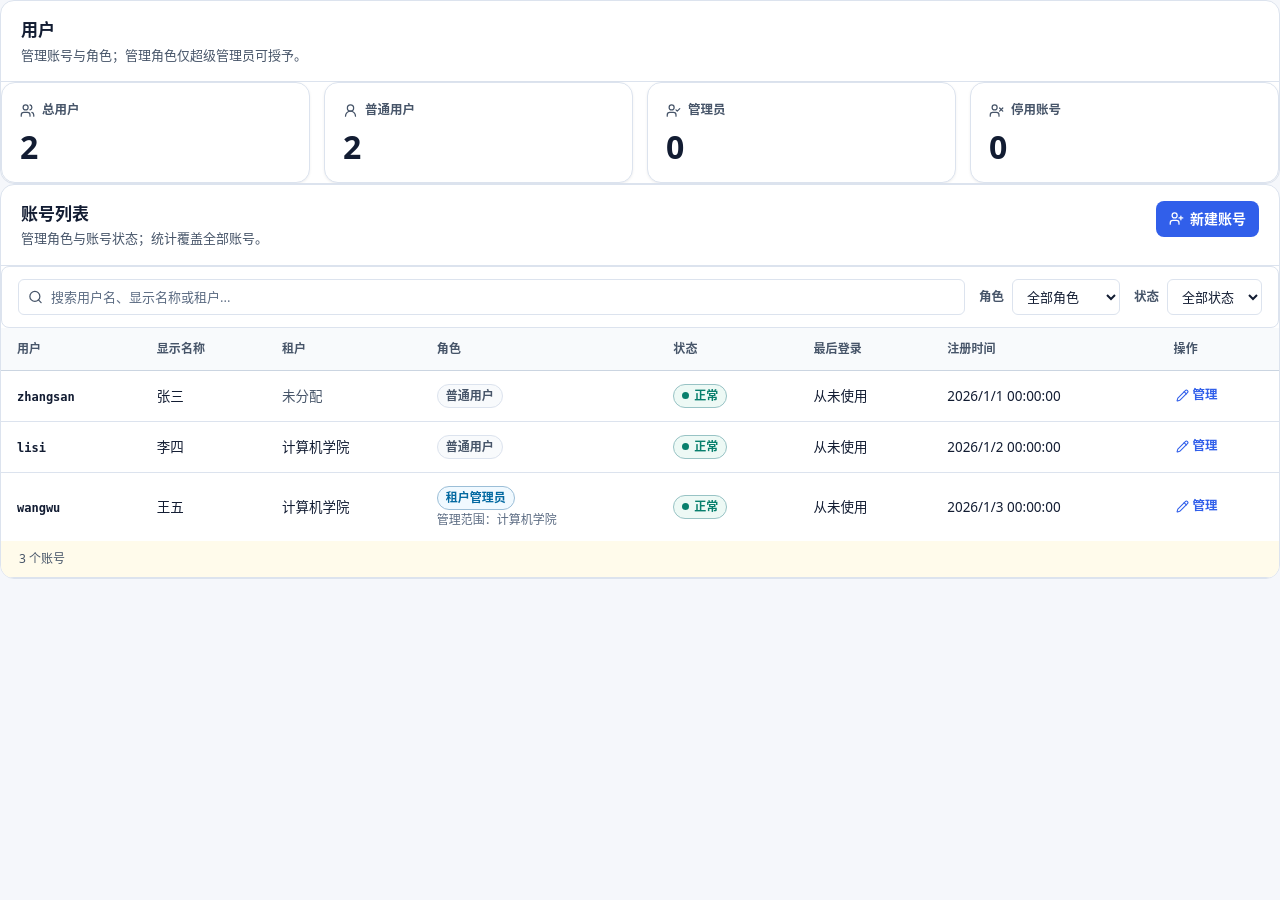
Test case: UsersPage password reset › explains a disabled account instead of silently failing
The width and height of the screenshot is (1280, 900).
Click the button "管理" in the row of "zhangsan".
click(1196, 396)  # box [1174,384,1220,407]
(page scrolled)
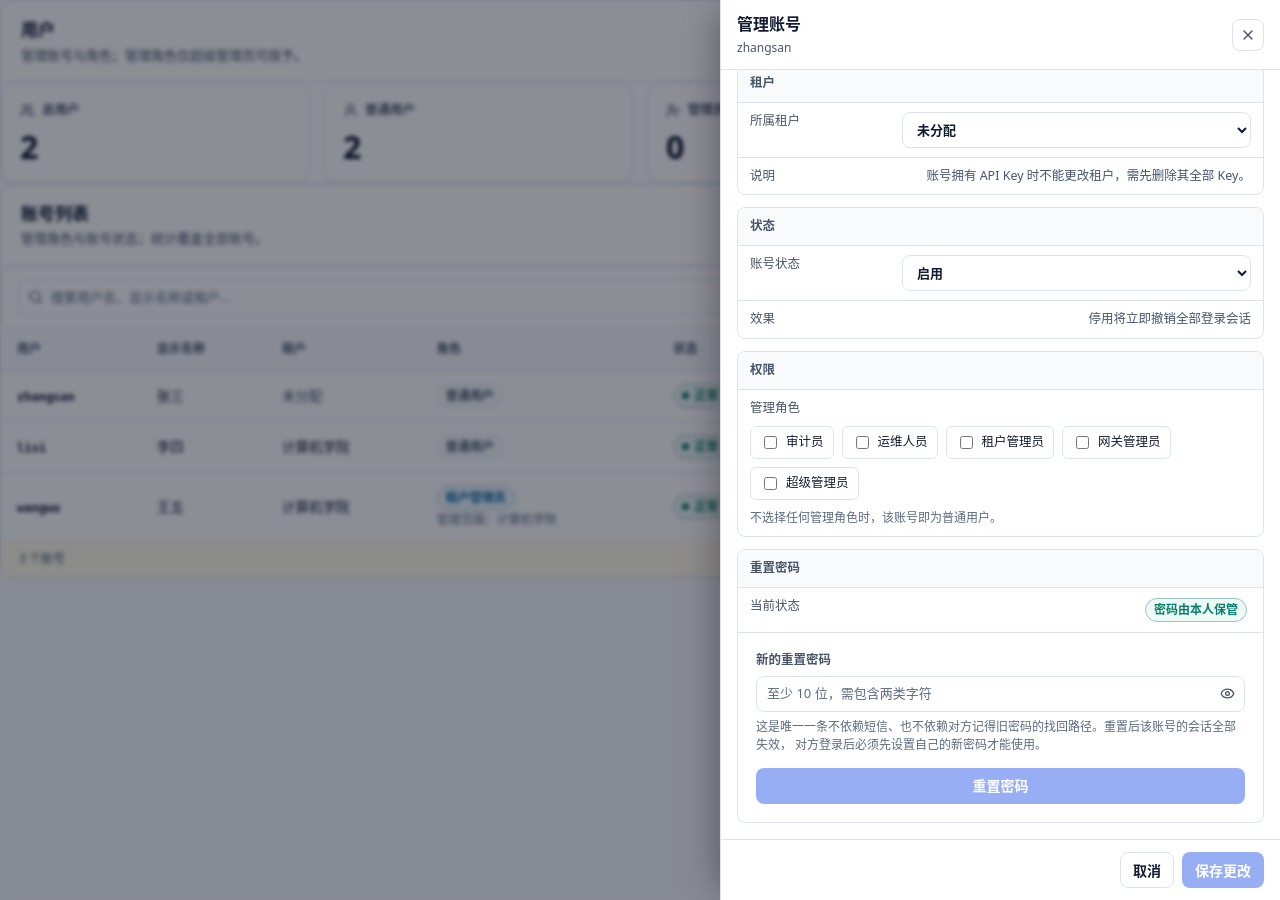
Type "Interim#2026Reset" into the password field with placeholder "至少 10 位，需包含两类字符".
click(1000, 694); type("Interim#2026Reset")  # box [756,676,1245,712]
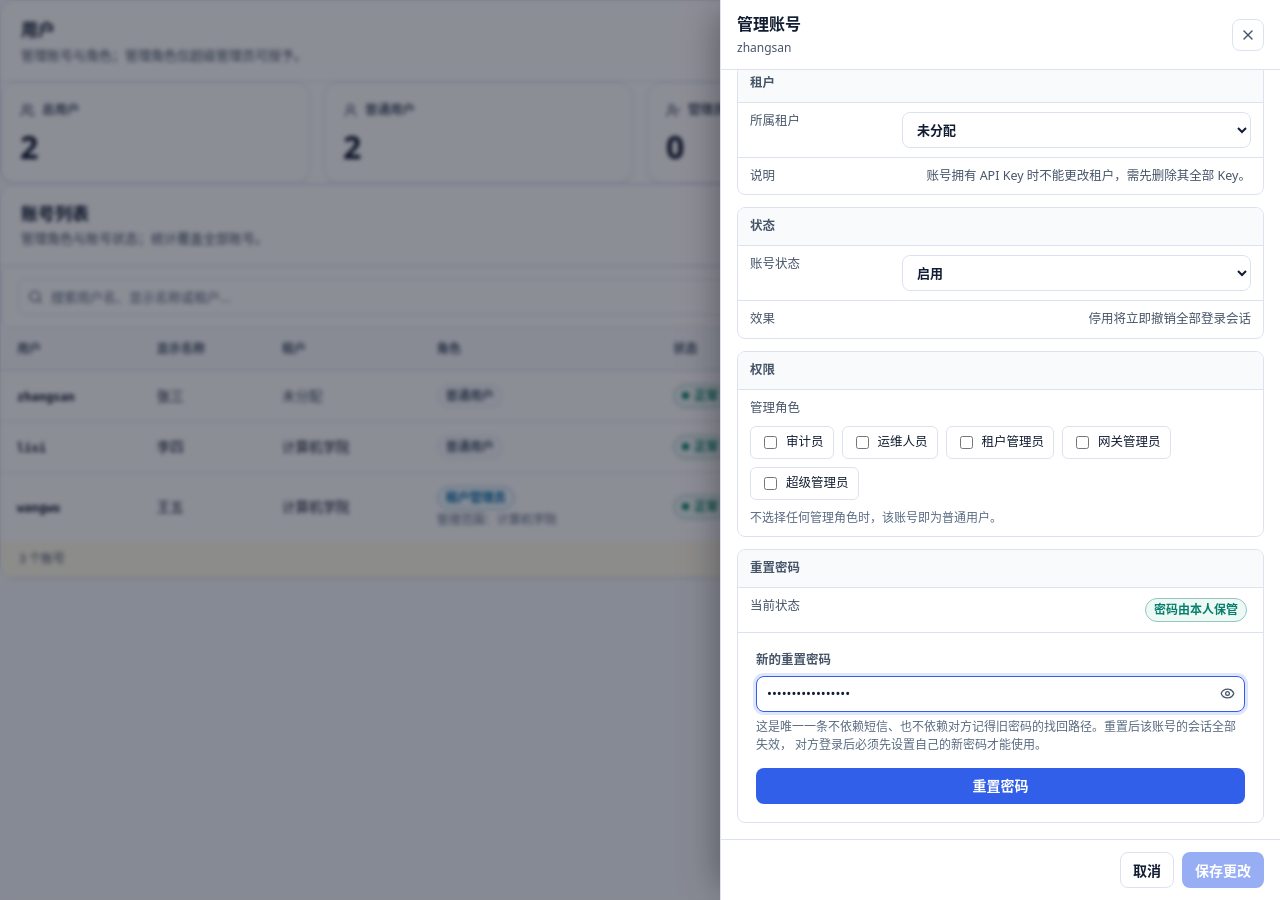
Click the button "重置密码".
click(1000, 786)  # box [756,768,1245,804]
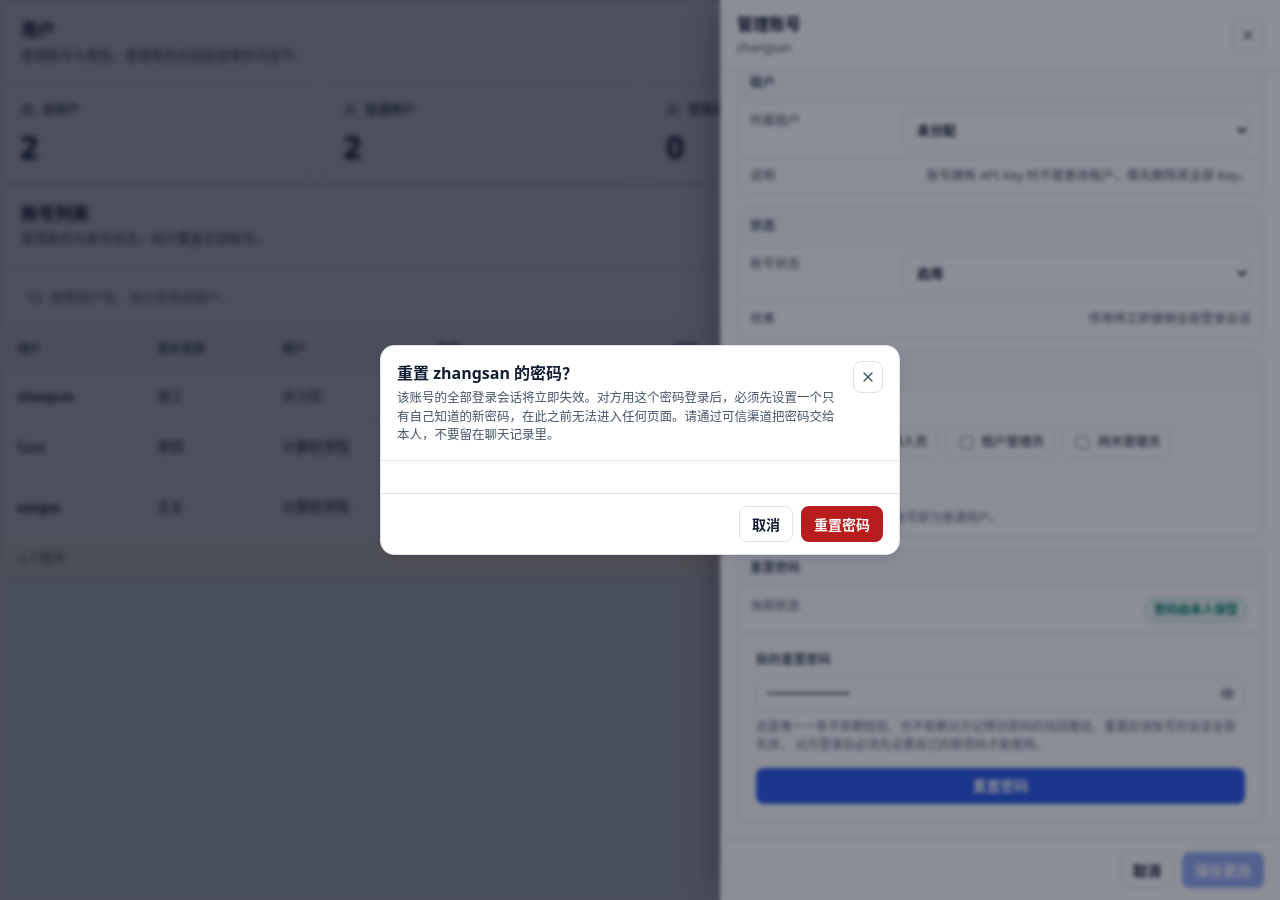
Click the button "重置密码".
click(842, 524)  # box [801,506,883,542]
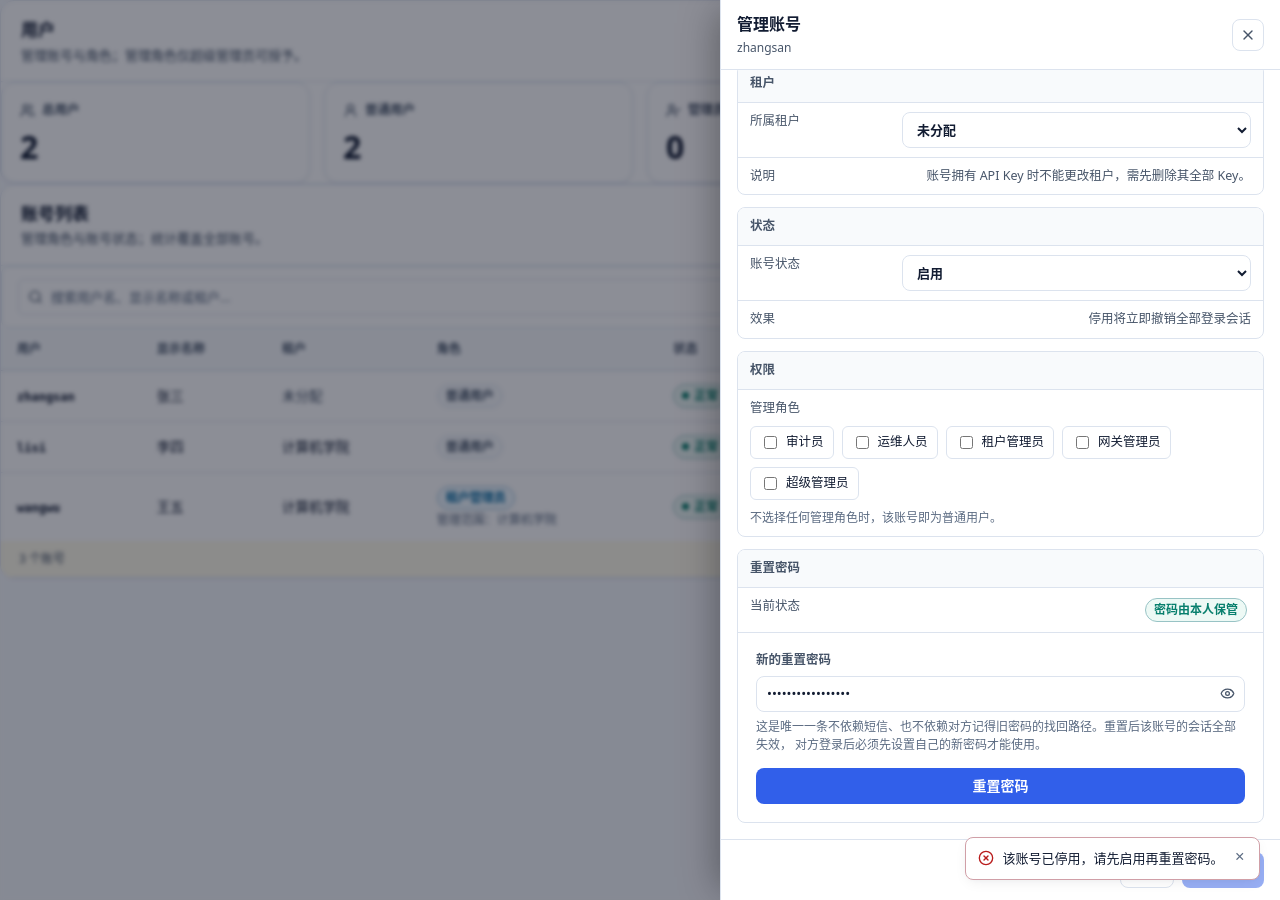
Check: the text "该账号已停用，请先启用再重置密码。" is shown, box [1002,848,1224,868]
